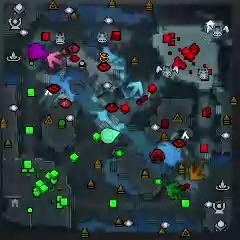p2: (100, 127, 121, 145)
p3: (26, 42, 48, 60)
x1: (46, 52, 64, 71)
x3: (128, 81, 144, 97)
x4: (165, 182, 182, 199)
x5: (188, 162, 205, 182)
